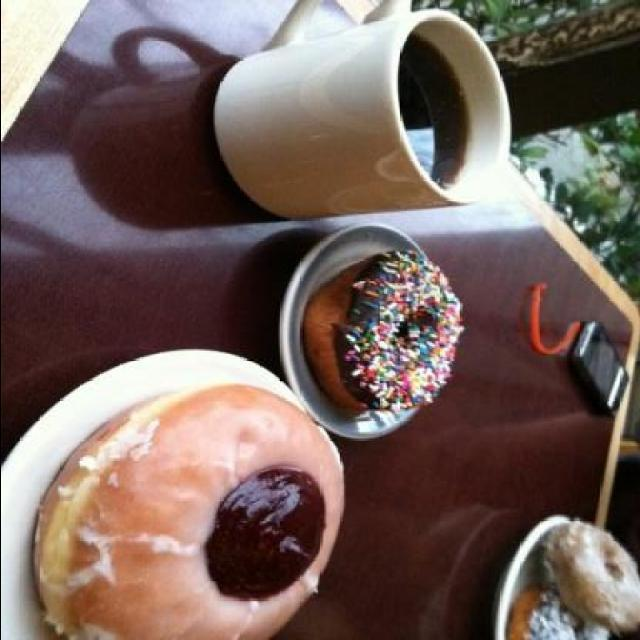Donuts: (2, 238, 486, 640), (500, 506, 638, 639)
